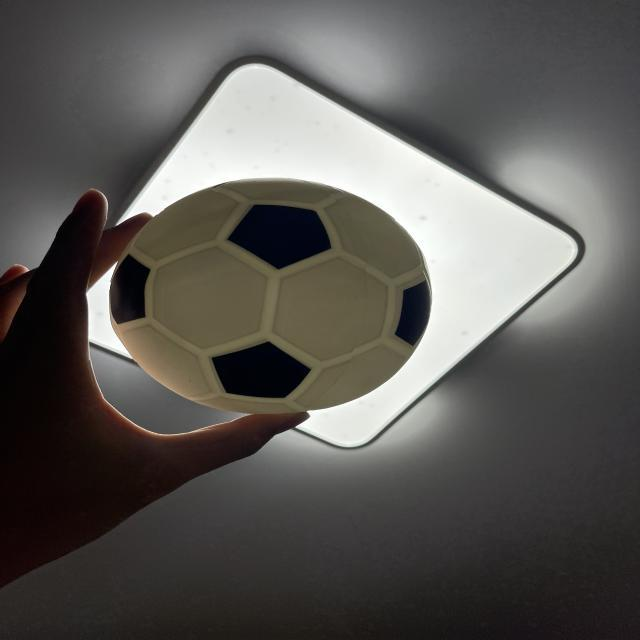ball: (105, 173, 438, 420)
